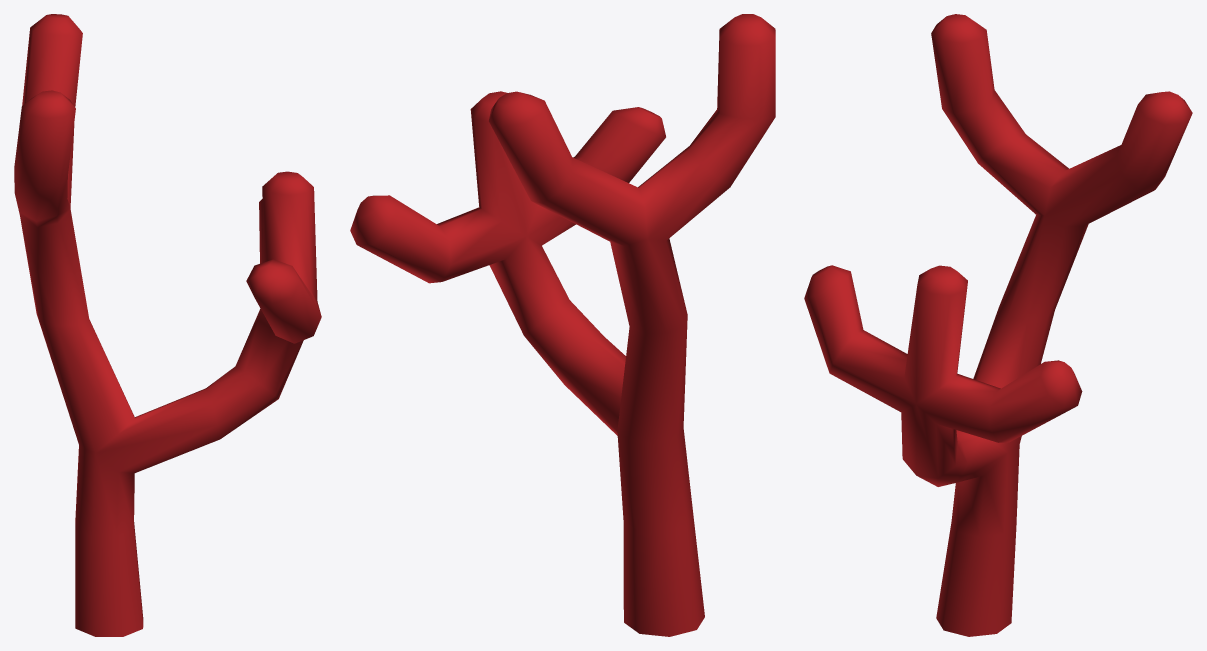
The model's file is Sea_plant_1_2.fbx.
3 renders of one model, left to right at view 1: azimuth 30°, elevation 25°; view 2: azimuth 150°, elevation 25°; view 3: azimuth 270°, elevation 25°, orthographic. The views are drawn at different scales.
Visible parts, largest first — view 1: Sea_plant_1_2; view 2: Sea_plant_1_2; view 3: Sea_plant_1_2.
Part boxes in pixels (bbox=[...]): Sea_plant_1_2: bbox=[14, 14, 321, 636]; Sea_plant_1_2: bbox=[350, 14, 775, 636]; Sea_plant_1_2: bbox=[804, 14, 1192, 636].
Bounding box in the file's own units: 0.6088 × 0.9592 × 0.5948.
